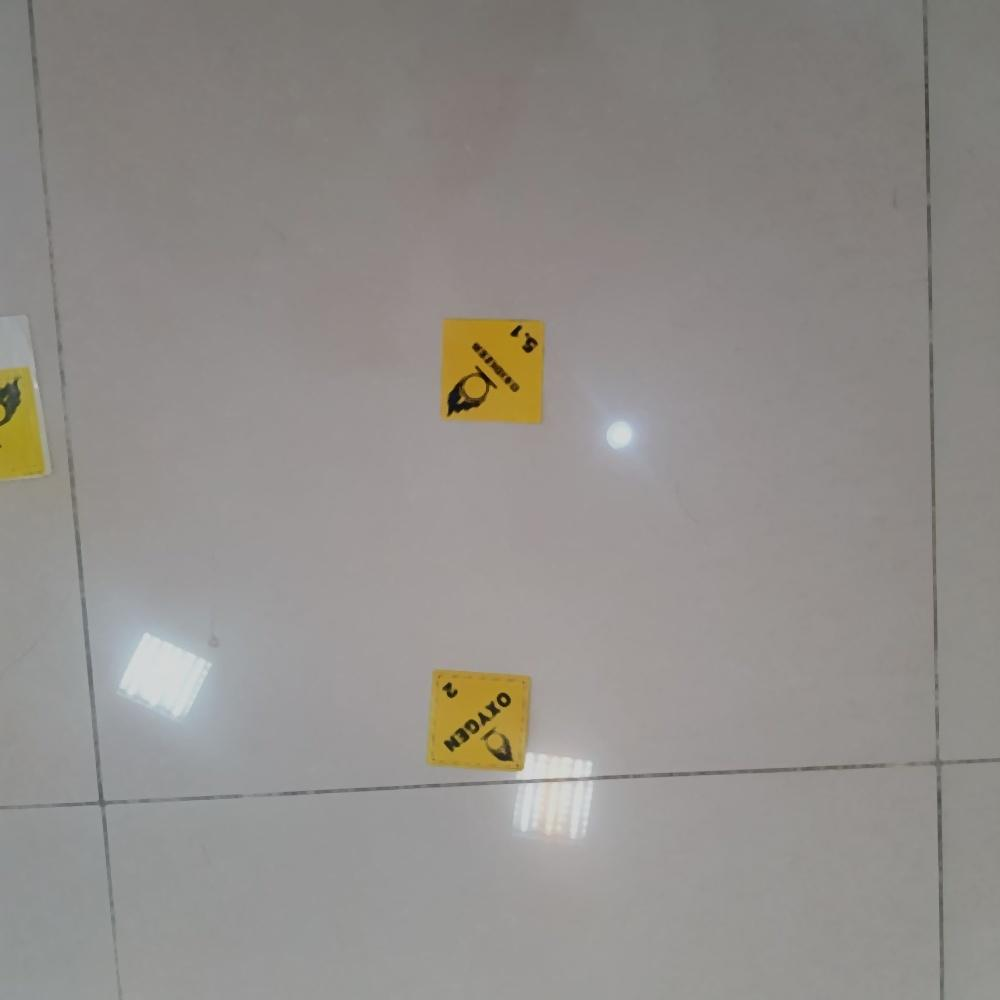oxidizer: (441, 318, 544, 423), (429, 674, 530, 768)
